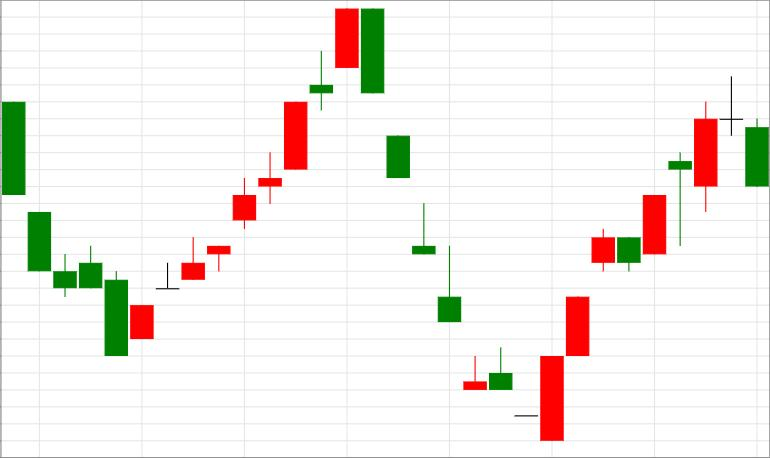bearish_engulfing_fall: (130, 9, 384, 339)
three_white_soldiers_rise: (361, 9, 614, 441)
